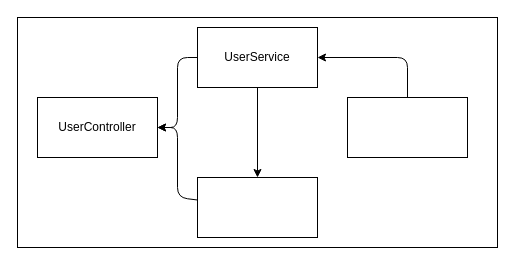
The diagram is 515 pixels wide and 265 high, and some of its shapes have lost their labels. Here are the shapes that lost their labels. From the top down, the centre of each, then its label:
At pixel 407 127: "UserRepository".
At pixel 257 207: "AuthService".
